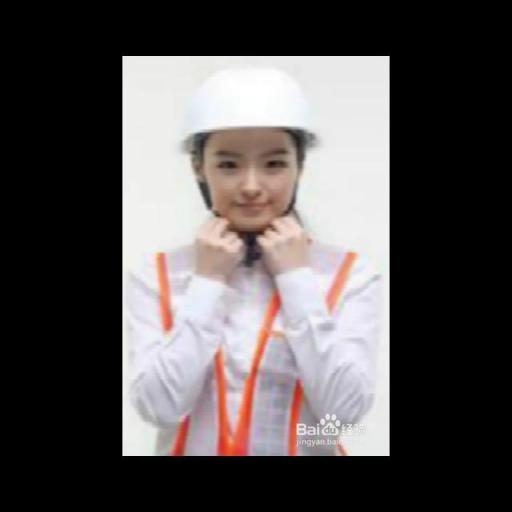helmet: (182, 68, 330, 148)
vest: (143, 240, 357, 454)
